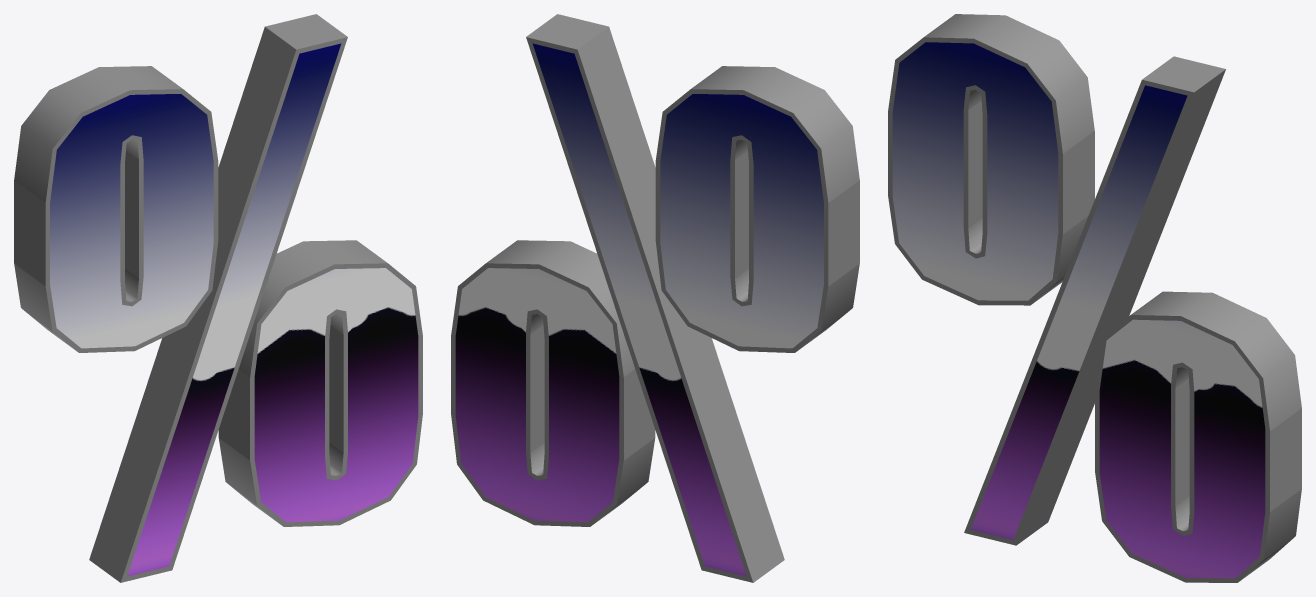
The model's file is Interest.FBX.
3 views of the same model, side by side, from view 1: azimuth 30°, elevation 25°; view 2: azimuth 150°, elevation 25°; view 3: azimuth 330°, elevation 25° (orthographic).
Parts seen in each view (by area): view 1: Interest, Interest_outline; view 2: Interest, Interest_outline; view 3: Interest, Interest_outline.
Boxes of the visible parts, <box> form: Interest: <box>50,43,418,576</box>; Interest_outline: <box>14,14,422,582</box>; Interest: <box>455,43,823,576</box>; Interest_outline: <box>451,14,859,582</box>; Interest: <box>892,42,1265,578</box>; Interest_outline: <box>888,14,1301,582</box>.
Size of the model in its own units: 83 by 103 by 12.
2 materials, 1 textured.
